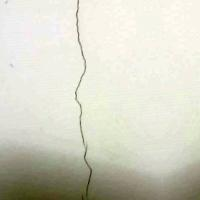crack: (58, 0, 113, 199)
